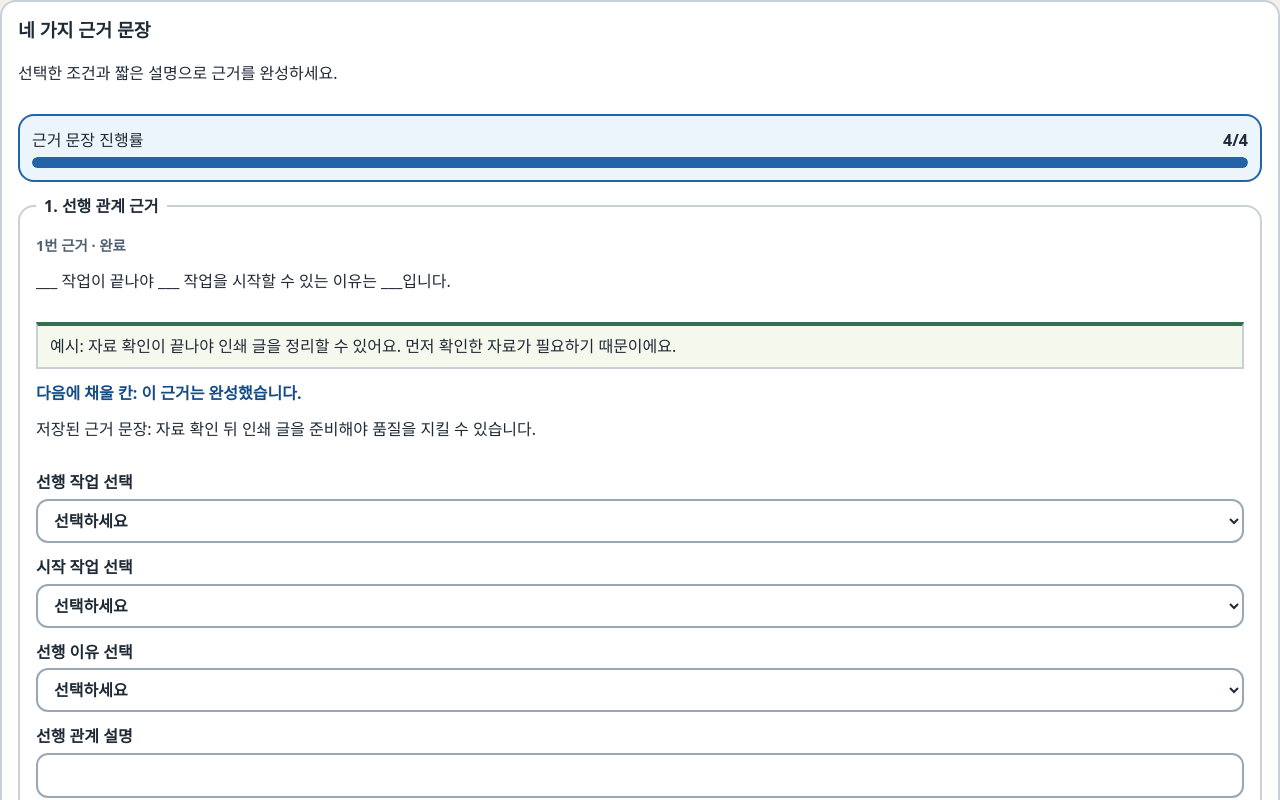
Test: analysis and revision learning flow › hydrates complete evidence, then clears only a section when its edit becomes invalid
This screenshot has width=1280, height=800.
Type "수정" into the field labelled "선행 관계 설명" at coordinates (640, 776), box [36,753,1244,798]
(page scrolled)
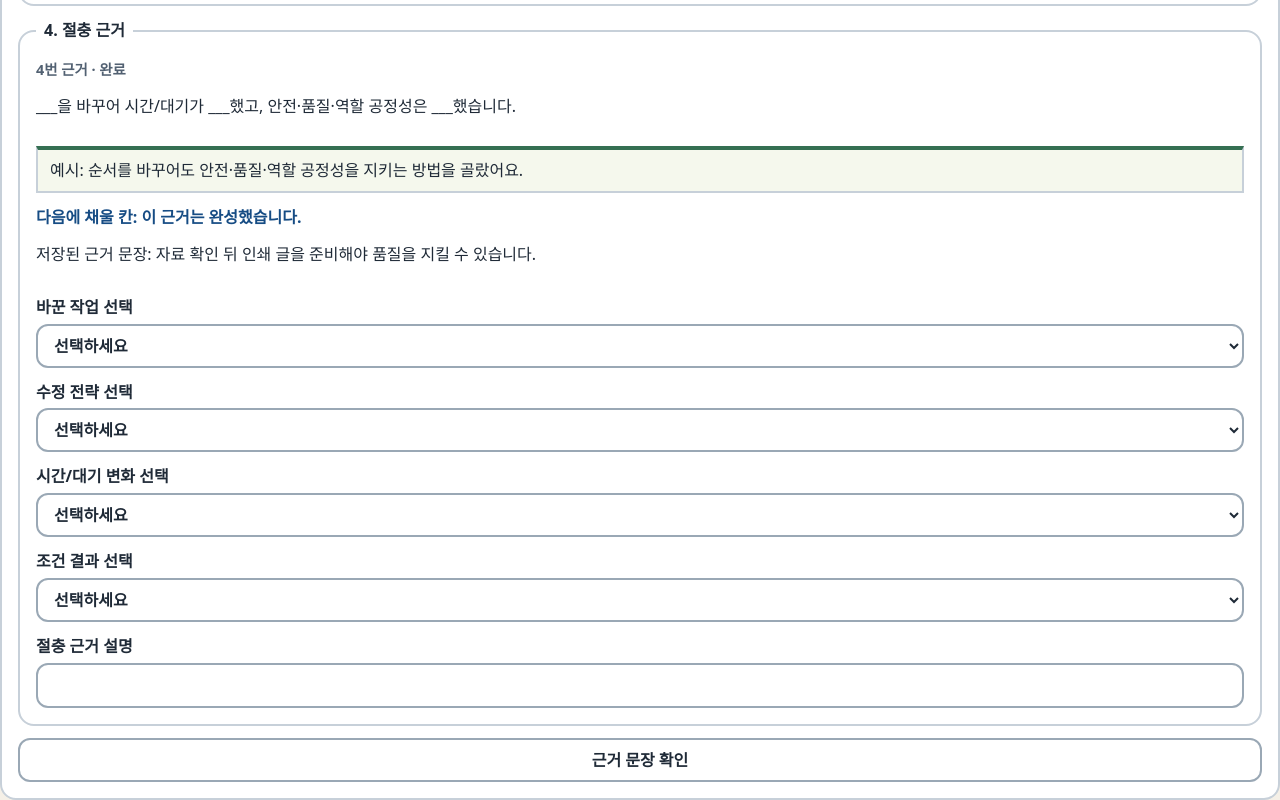
Click the button "근거 문장 확인" at coordinates (640, 760), box [18,738,1262,782]
(page scrolled)
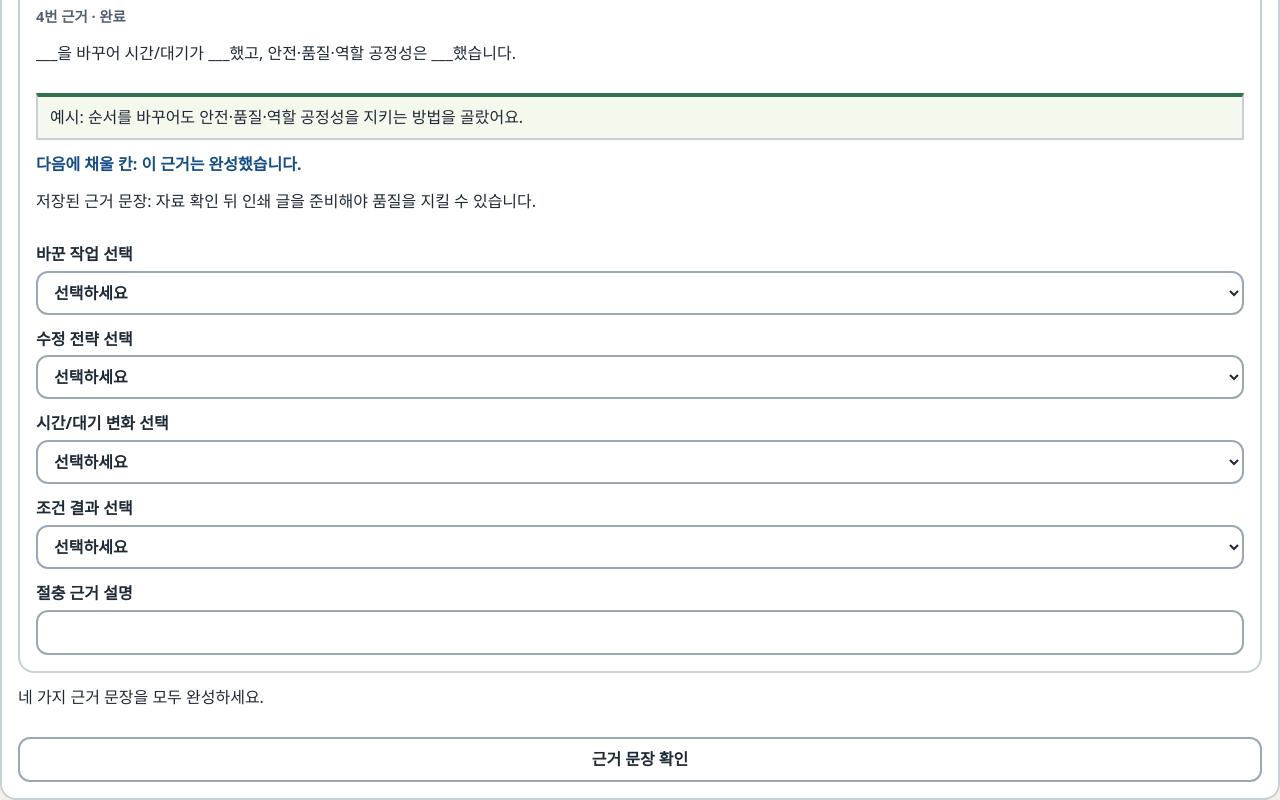
Expected: the message reads "네 가지 근거 문장을 모두 완성하세요.", [18,686,264,708]
